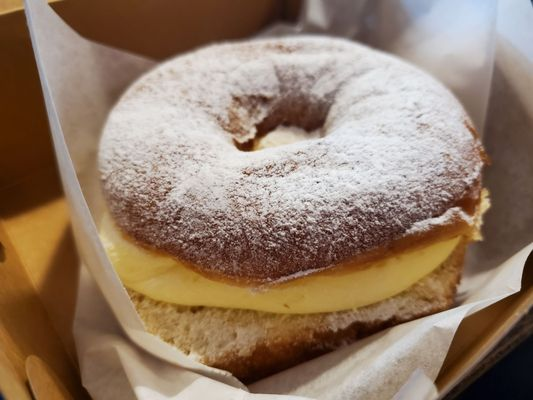soup: (92, 14, 490, 383)
